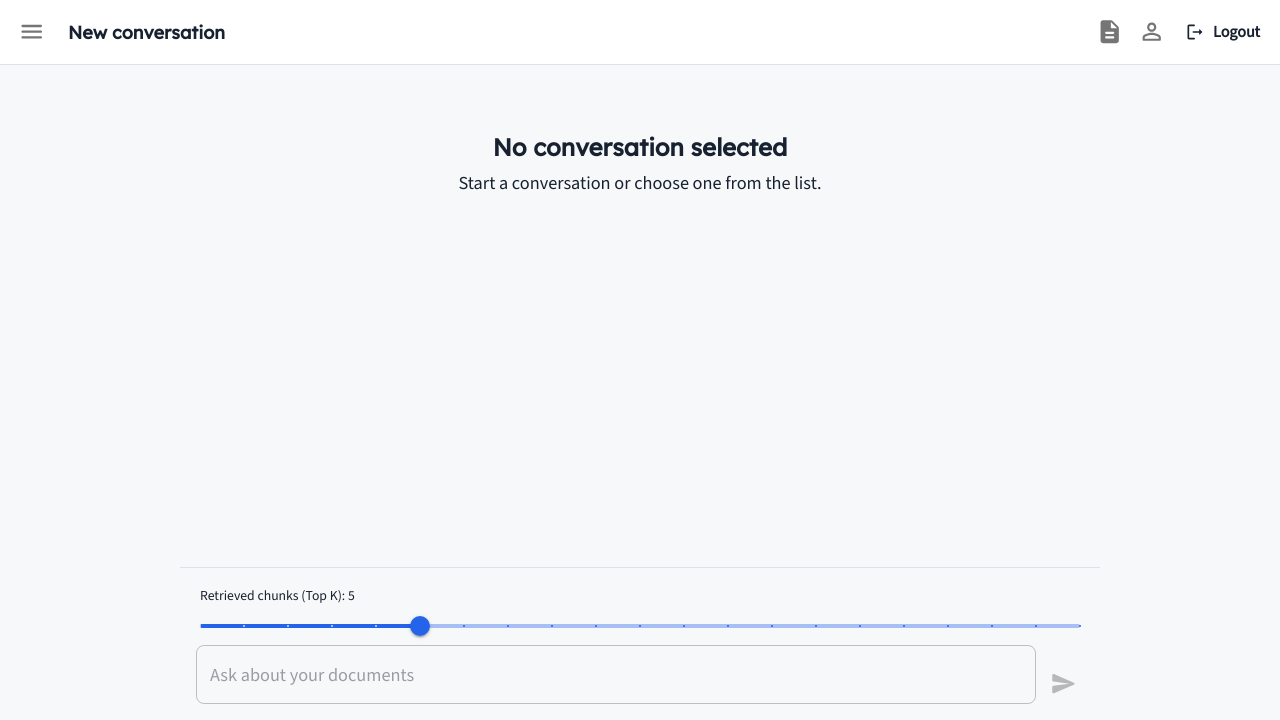
ChatWorkspace › opens the source drawer from clicking a source in the disclosure list
This screenshot has width=1280, height=720.
Type "What is the refund policy?" into the text box named "Question" at (616, 674), box [210,662,1022,688]
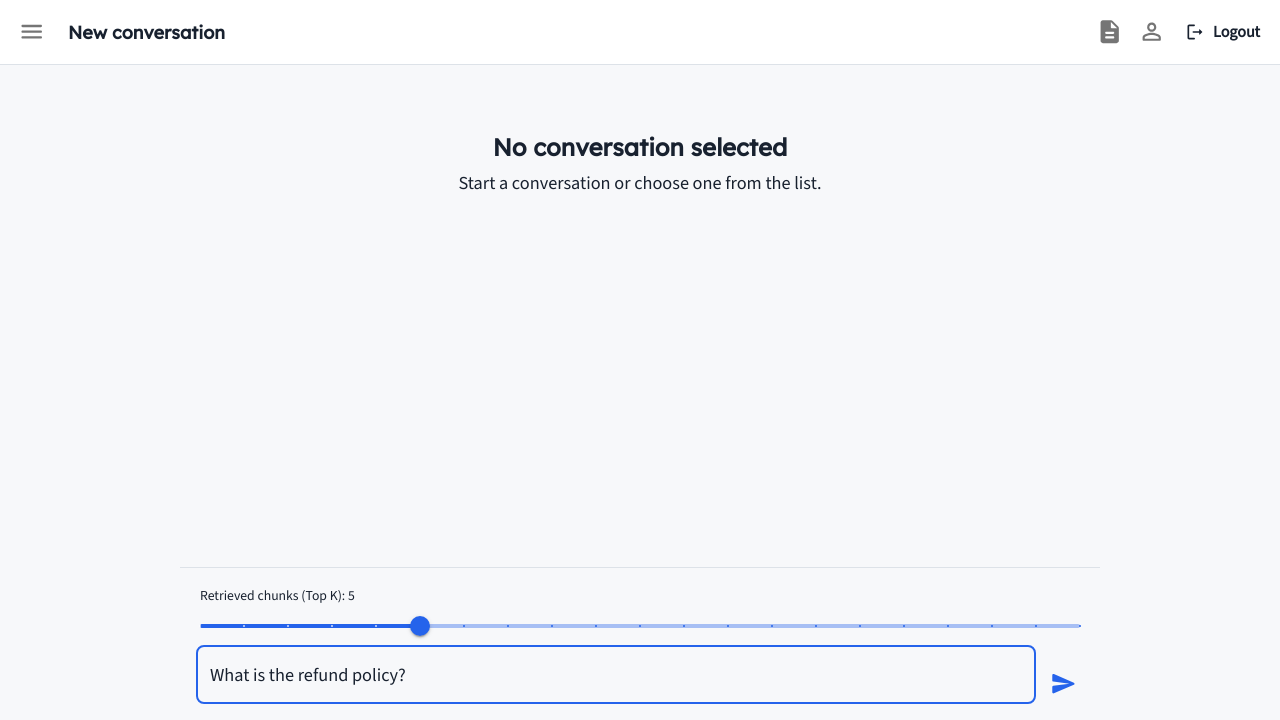
Check: the button named "Send message" is enabled, box [1044,664,1084,704]
Press Enter
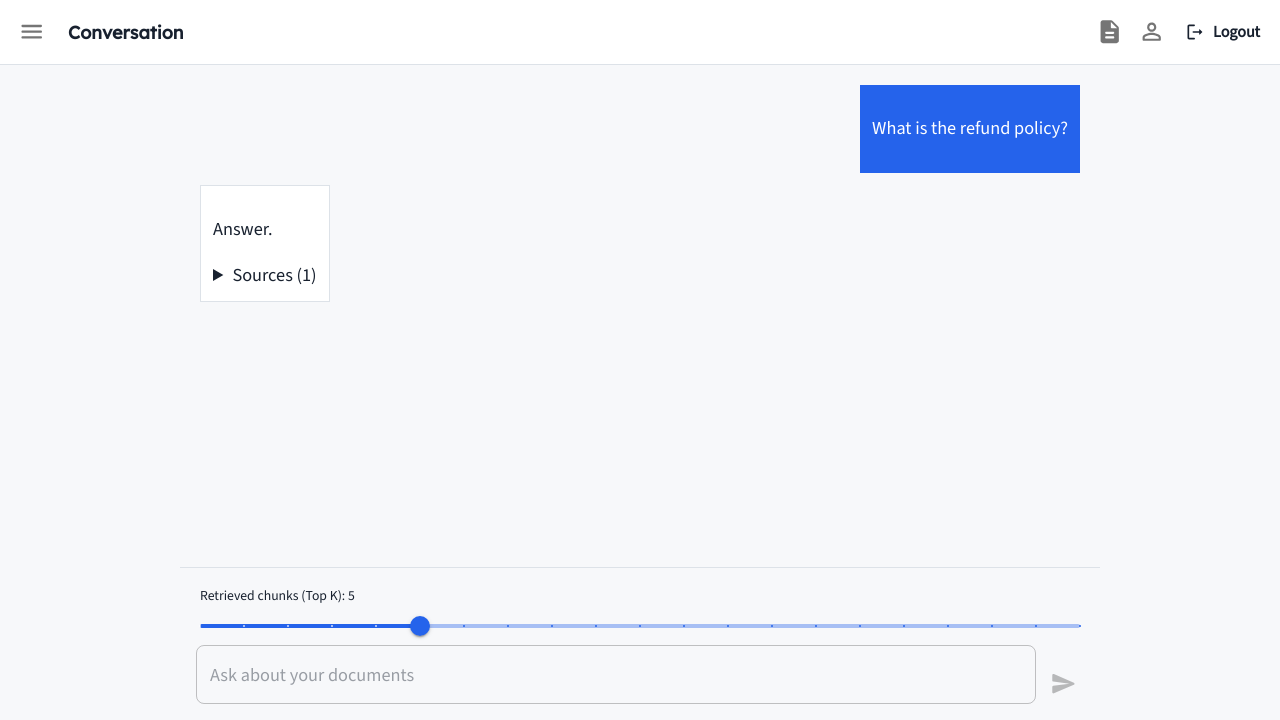
Click the heading "Sources (1)" at (274, 275), box [232,263,317,287]
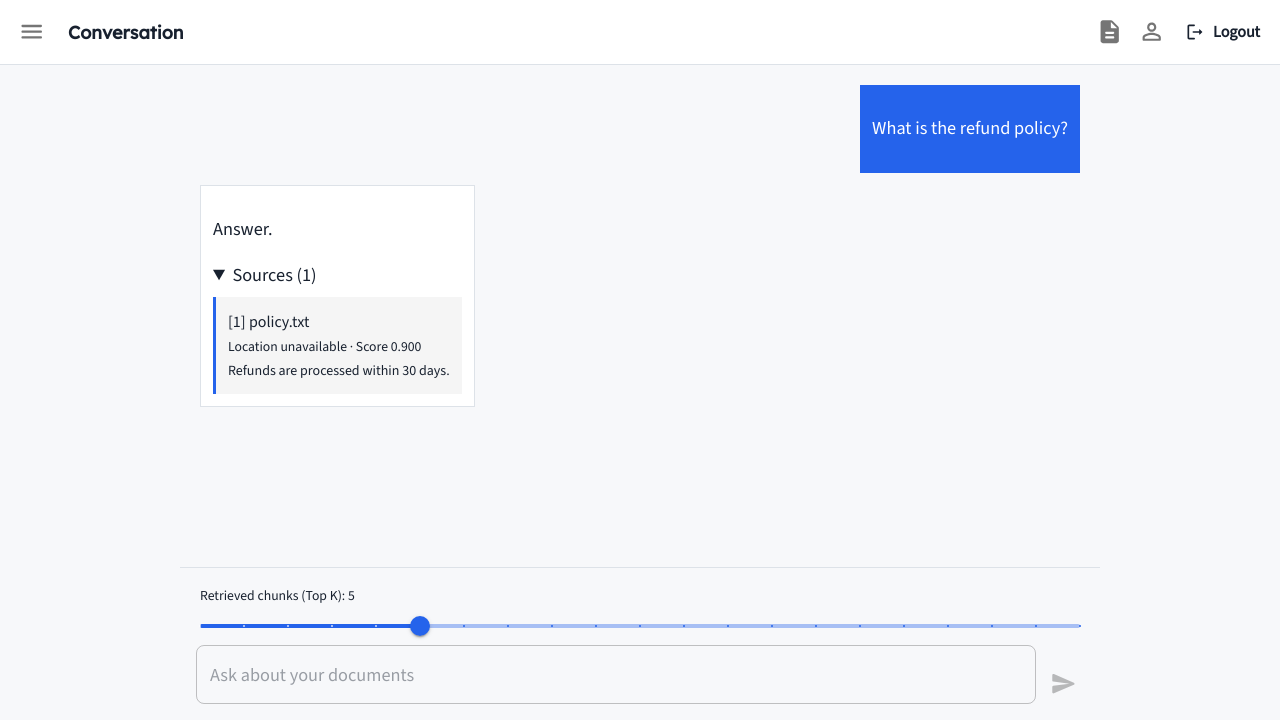
Click the text "[1] policy.txt" at (269, 322), box [228,311,309,332]
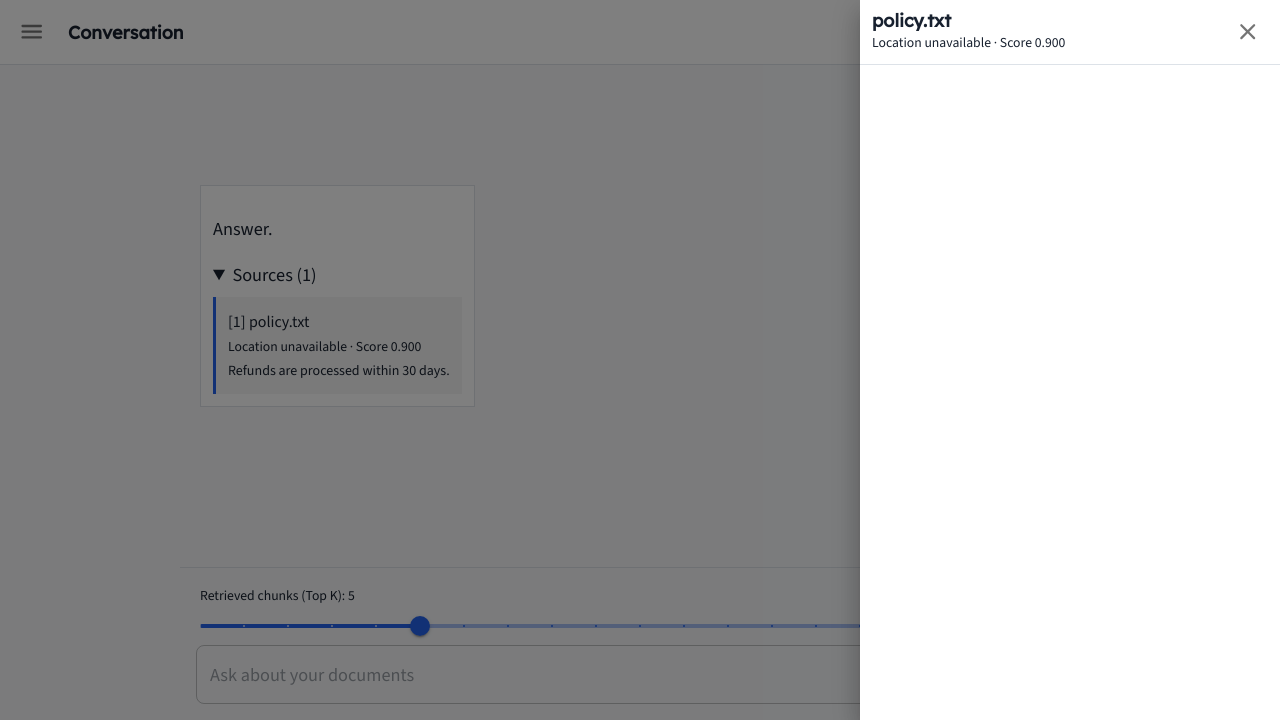
Check: the button named "Close source" is shown, box [1228,12,1268,52]
